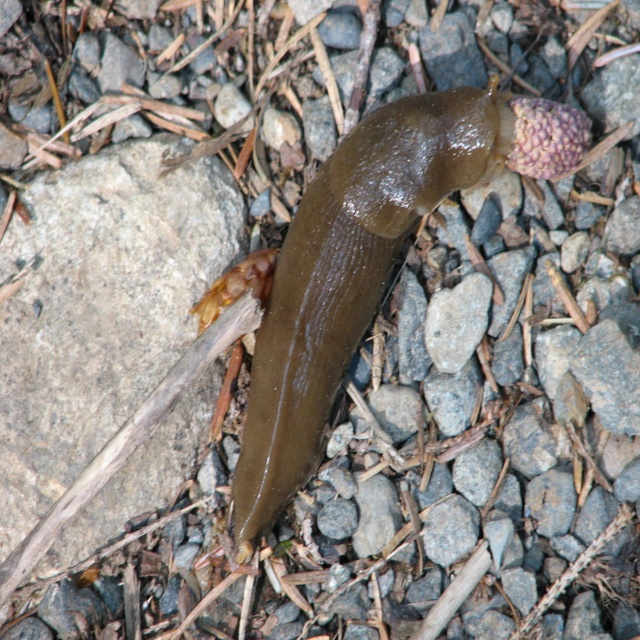Snail: (226, 71, 522, 549)
